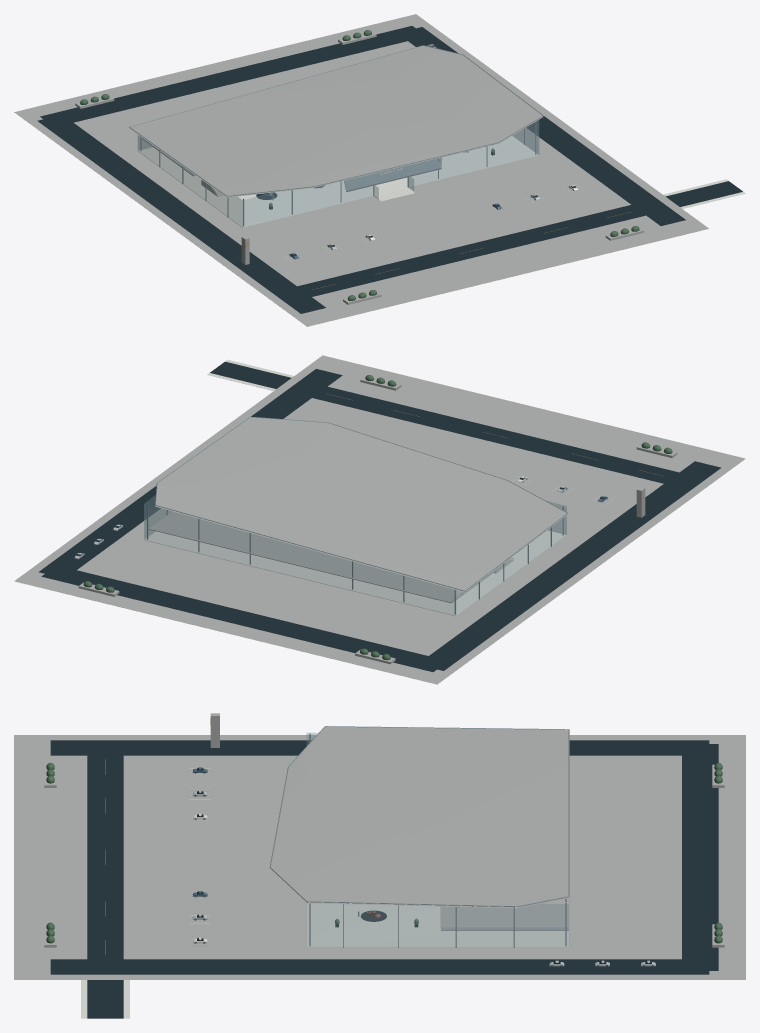
File: dealership.glb
3 renders of one model, top to bottom at view 1: azimuth 30°, elevation 25°; view 2: azimuth 150°, elevation 25°; view 3: azimuth 270°, elevation 25°, orthographic. The views are drawn at different scales.
Visible parts, largest first — view 1: GC-AUTO-001-concrete, GC-AUTO-001-dark, GC-AUTO-001-white, GC-AUTO-001-glass, GC-AUTO-001-steel, GC-AUTO-001-leaf; view 2: GC-AUTO-001-concrete, GC-AUTO-001-dark, GC-AUTO-001-glass, GC-AUTO-001-white, GC-AUTO-001-steel, GC-AUTO-001-leaf; view 3: GC-AUTO-001-concrete, GC-AUTO-001-dark, GC-AUTO-001-glass, GC-AUTO-001-white, GC-AUTO-001-steel, GC-AUTO-001-leaf.
Part boxes in pixels (bbox=[...]): GC-AUTO-001-concrete: bbox=[14, 14, 708, 326]; GC-AUTO-001-dark: bbox=[37, 26, 742, 313]; GC-AUTO-001-white: bbox=[138, 136, 745, 261]; GC-AUTO-001-glass: bbox=[137, 44, 539, 227]; GC-AUTO-001-steel: bbox=[129, 45, 543, 226]; GC-AUTO-001-leaf: bbox=[80, 30, 639, 300]; GC-AUTO-001-concrete: bbox=[14, 355, 745, 684]; GC-AUTO-001-dark: bbox=[38, 361, 721, 671]; GC-AUTO-001-glass: bbox=[144, 495, 566, 615]; GC-AUTO-001-white: bbox=[144, 359, 612, 616]; GC-AUTO-001-steel: bbox=[147, 416, 568, 614]; GC-AUTO-001-leaf: bbox=[83, 375, 672, 660]; GC-AUTO-001-concrete: bbox=[14, 713, 745, 979]; GC-AUTO-001-dark: bbox=[50, 740, 718, 1018]; GC-AUTO-001-glass: bbox=[306, 733, 568, 946]; GC-AUTO-001-white: bbox=[81, 768, 568, 1018]; GC-AUTO-001-steel: bbox=[195, 726, 653, 966]; GC-AUTO-001-leaf: bbox=[46, 762, 722, 943].
Bounding box in the file's own units: 220 × 17.8 × 240.
